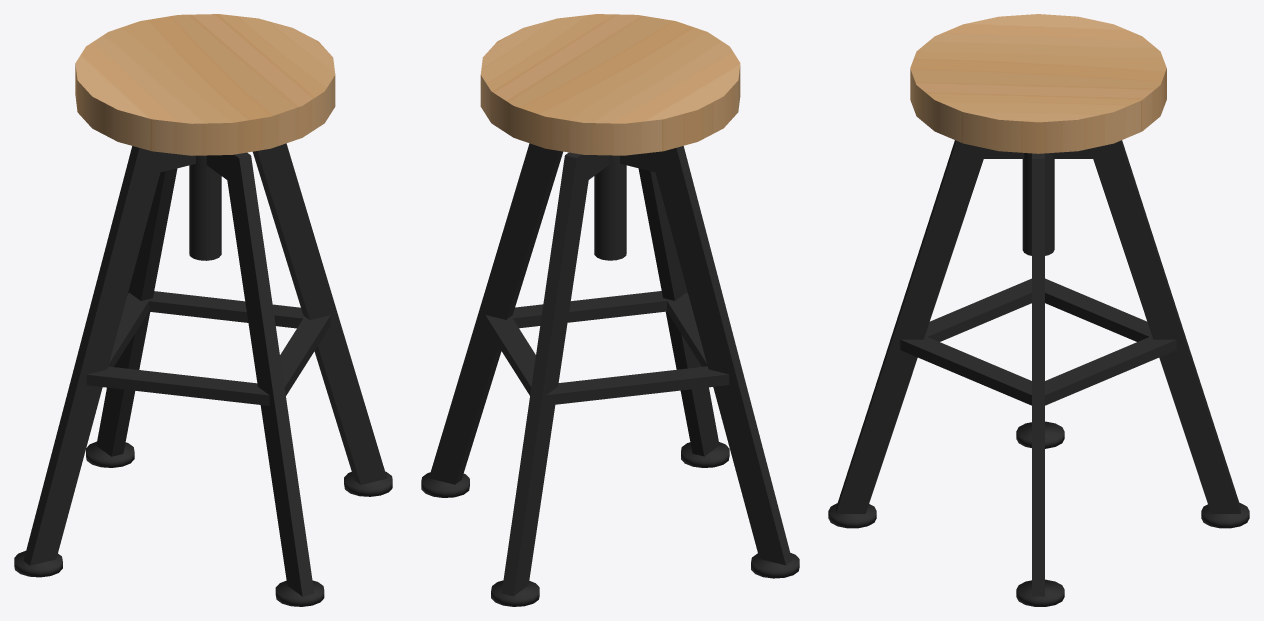
Rendered from bar stool.fbx.
3 renders of one model, left to right at view 1: azimuth 30°, elevation 25°; view 2: azimuth 150°, elevation 25°; view 3: azimuth 270°, elevation 25°, orthographic.
Visible parts, largest first — view 1: bar stool; view 2: bar stool; view 3: bar stool.
Part boxes in pixels (bbox=[...]): bar stool: bbox=[14, 14, 392, 606]; bar stool: bbox=[421, 14, 799, 606]; bar stool: bbox=[828, 14, 1249, 606].
Bounding box in the file's own units: 68.85 × 81.16 × 68.83.
2 materials, 2 textured.
